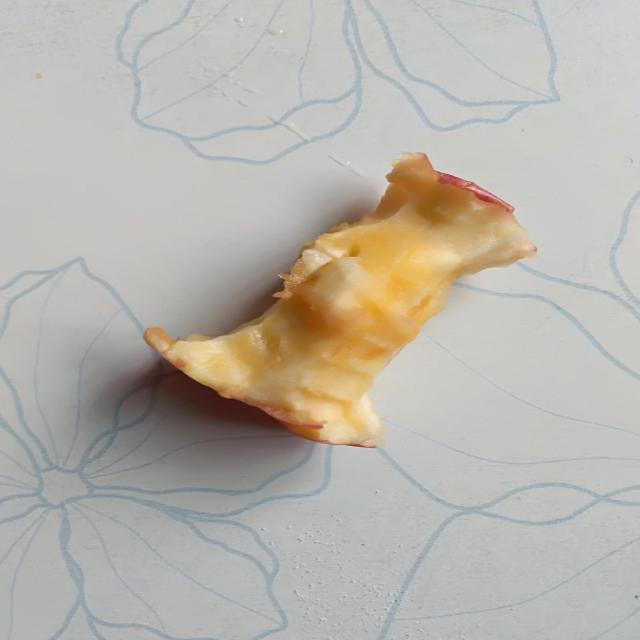Wet: (143, 152, 539, 448)
